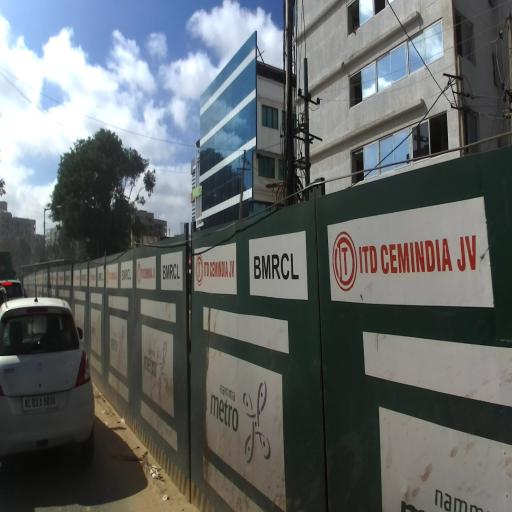street_light_0: (43, 204, 63, 211)
